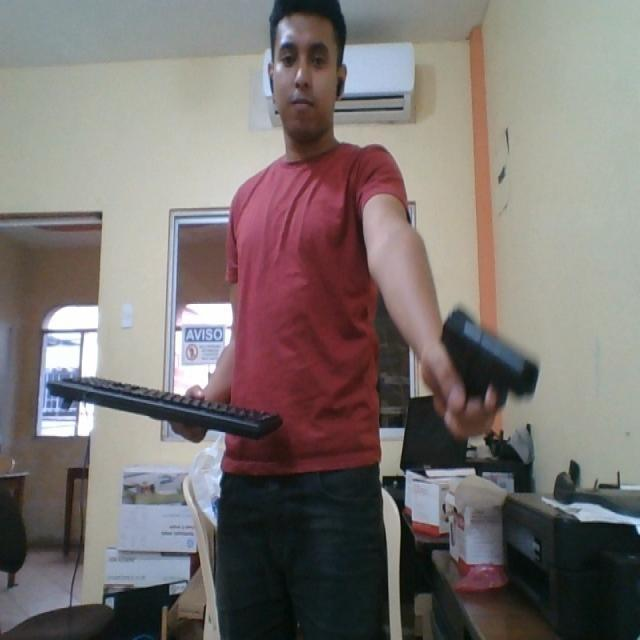weapon: (430, 308, 548, 411)
